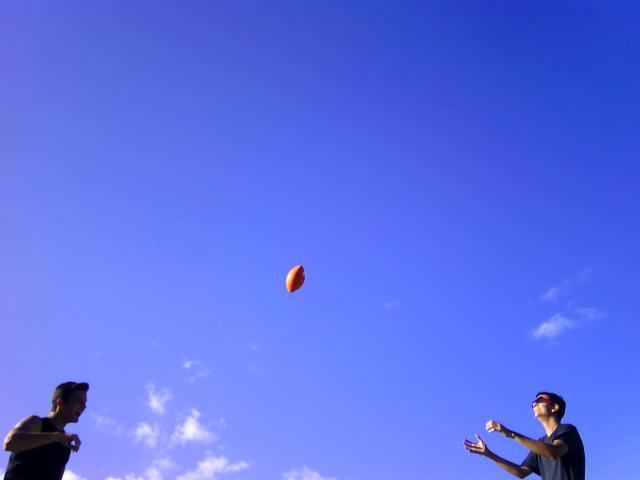football: (282, 264, 308, 297)
